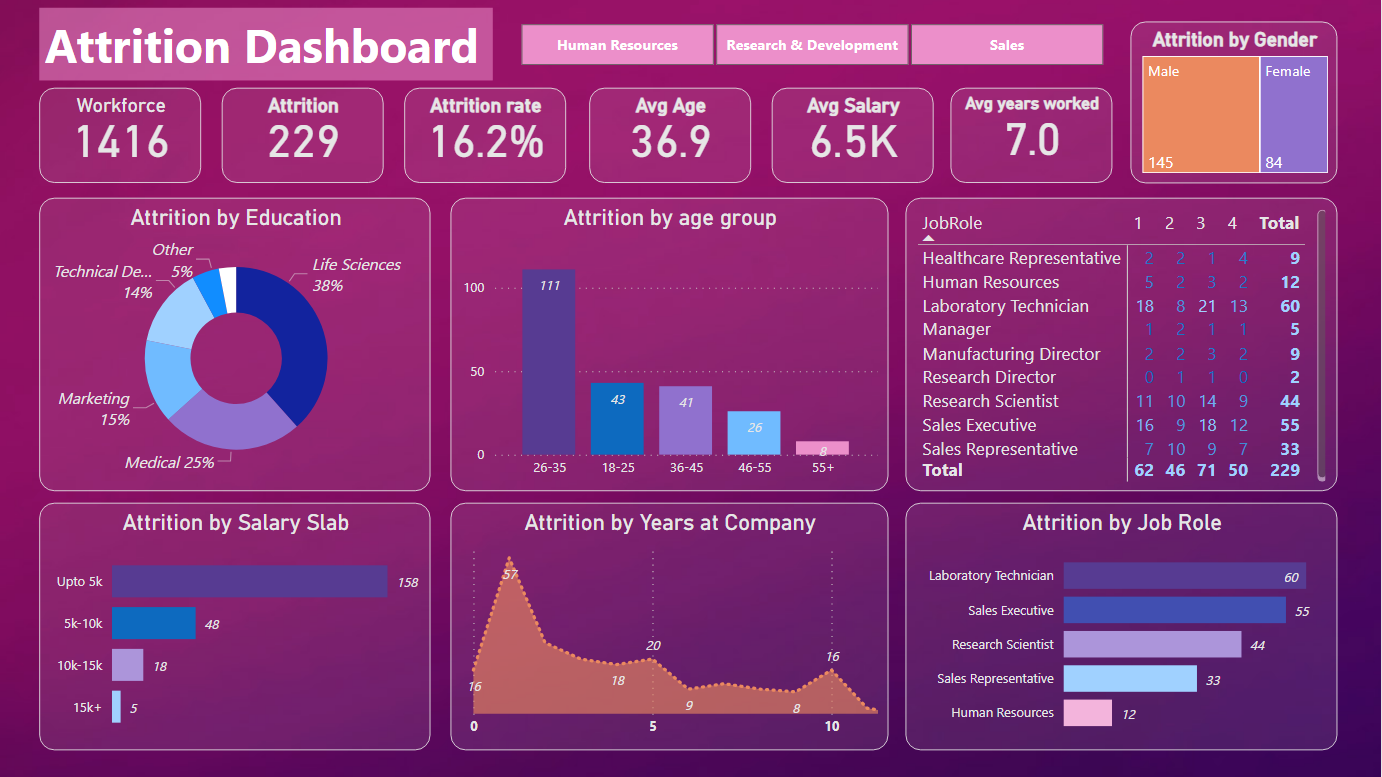

The page's visual inventory and layout, read from the dashboard file:
{"tool":"powerbi","page":{"name":"Page 1","canvas":[1280,720],"ordinal":0},"visuals":[{"type":"card","title":"Workforce","fields":{"Values":["CountNonNull(HR_Analytics.EmpID)"]},"box":[38.1,82.5,149.4,87.7],"z":0},{"type":"card","title":"Attrition","fields":{"Values":["Sum(HR_Analytics.AttritionNum)"]},"box":[207,82.3,149.4,87.7],"z":1000},{"type":"card","title":"Attrition rate","fields":{"Values":["HR_Analytics.AttritionPercent"]},"box":[375.7,82.3,149.4,87.7],"z":2000},{"type":"card","title":"Avg Age","fields":{"Values":["Avg(HR_Analytics.Age)"]},"box":[547,82.3,149.4,87.7],"z":3000},{"type":"card","title":"Avg Salary","fields":{"Values":["Avg(HR_Analytics.MonthlyIncome)"]},"box":[715.7,82.3,149.4,87.7],"z":4000},{"type":"card","title":"Avg years worked","fields":{"Values":["Avg(HR_Analytics.YearsAtCompany)"]},"box":[879.9,82.3,149.4,87.7],"z":5000},{"type":"donutChart","title":"Attrition by Education","fields":{"Category":["HR_Analytics.EducationField"],"Y":["Sum(HR_Analytics.AttritionNum)"]},"box":[38.4,183.7,362,271.5],"z":6000},{"type":"clusteredColumnChart","title":"Attrition by age group","fields":{"Category":["HR_Analytics.AgeGroup"],"Y":["Sum(HR_Analytics.AttritionNum)"]},"box":[418.2,183.7,404.5,271.5],"z":7000},{"type":"pivotTable","fields":{"Rows":["HR_Analytics.JobRole"],"Columns":["HR_Analytics.JobSatisfaction"],"Values":["Sum(HR_Analytics.AttritionNum)"]},"box":[839.1,183.7,399,271.5],"z":8000},{"type":"clusteredBarChart","title":"Attrition by Salary Slab","fields":{"Category":["HR_Analytics.SalarySlab"],"Y":["Sum(HR_Analytics.AttritionNum)"]},"box":[38.4,466.2,362,229],"z":9000},{"type":"areaChart","title":"Attrition by Years at Company","fields":{"Category":["HR_Analytics.YearsAtCompany"],"Y":["Sum(HR_Analytics.AttritionNum)"]},"box":[418.2,466.2,404.5,229],"z":10000},{"type":"clusteredBarChart","title":"Attrition by Job Role","fields":{"Category":["HR_Analytics.JobRole"],"Y":["Sum(HR_Analytics.AttritionNum)"]},"box":[839.1,466.2,399,229],"z":11000},{"type":"treemap","title":"Attrition by Gender","fields":{"Details":["HR_Analytics.Gender"],"Values":["Sum(HR_Analytics.AttritionNum)"]},"box":[1046.7,20.6,191.4,149.4],"z":12000},{"type":"slicer","fields":{"Values":["HR_Analytics.Department"]},"box":[457.9,16.5,588.2,52.1],"z":13000},{"type":"textbox","box":[38.4,8.2,419.5,66.9],"z":14000}]}

Visuals, with their boxes in screenshot pixels (x1, y1, x2, y2), scaled from the page's 1280x720 canvas onto the 1382x777 screenshot:
"Workforce" card: 41:89:202:184
"Attrition" card: 223:89:385:183
"Attrition rate" card: 406:89:567:183
"Avg Age" card: 591:89:752:183
"Avg Salary" card: 773:89:934:183
"Avg years worked" card: 950:89:1111:183
"Attrition by Education" donutChart: 41:198:432:491
"Attrition by age group" clusteredColumnChart: 452:198:888:491
pivotTable - HR_Analytics.JobRole x HR_Analytics.JobSatisfaction: 906:198:1337:491
"Attrition by Salary Slab" clusteredBarChart: 41:503:432:750
"Attrition by Years at Company" areaChart: 452:503:888:750
"Attrition by Job Role" clusteredBarChart: 906:503:1337:750
"Attrition by Gender" treemap: 1130:22:1337:183
slicer - HR_Analytics.Department: 494:18:1129:74
textbox: 41:9:494:81
